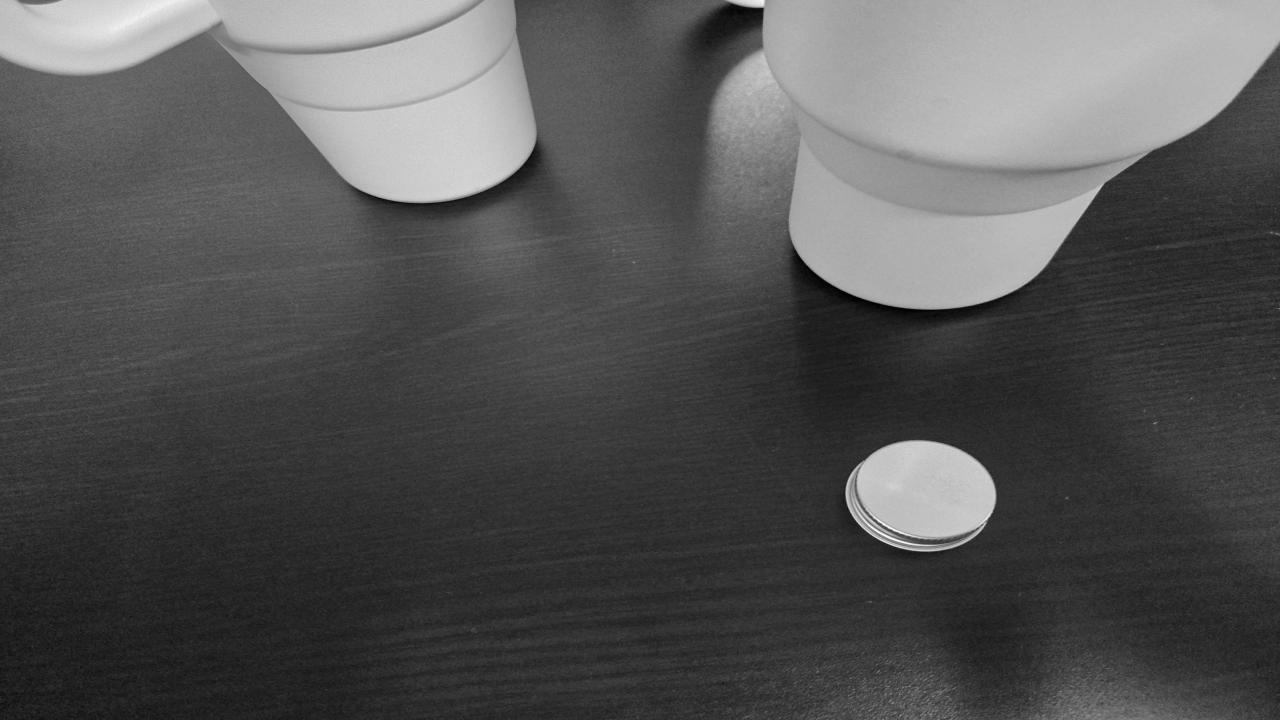bottle_cap: (844, 440, 998, 554)
